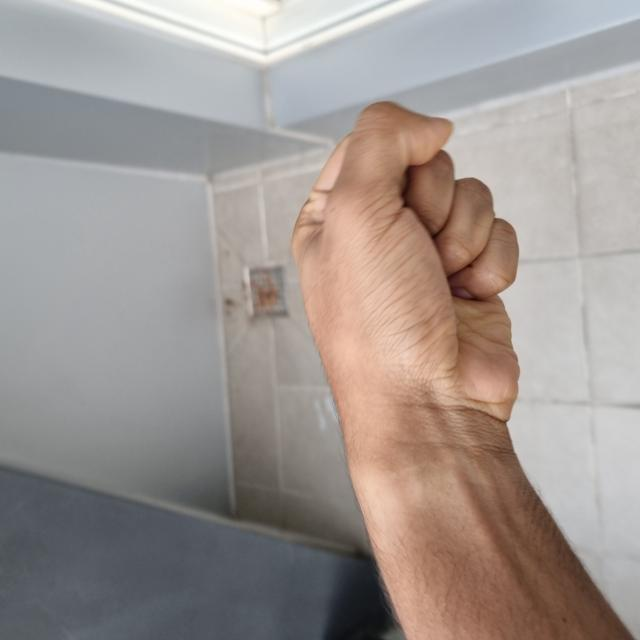Rock: (192, 290, 541, 525)
